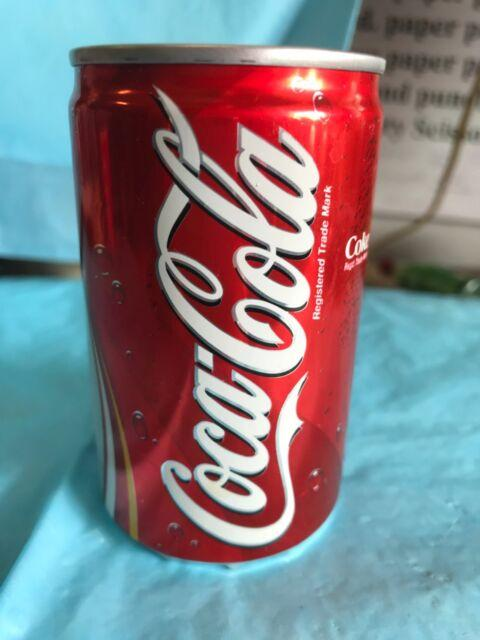metal: (71, 44, 385, 564)
